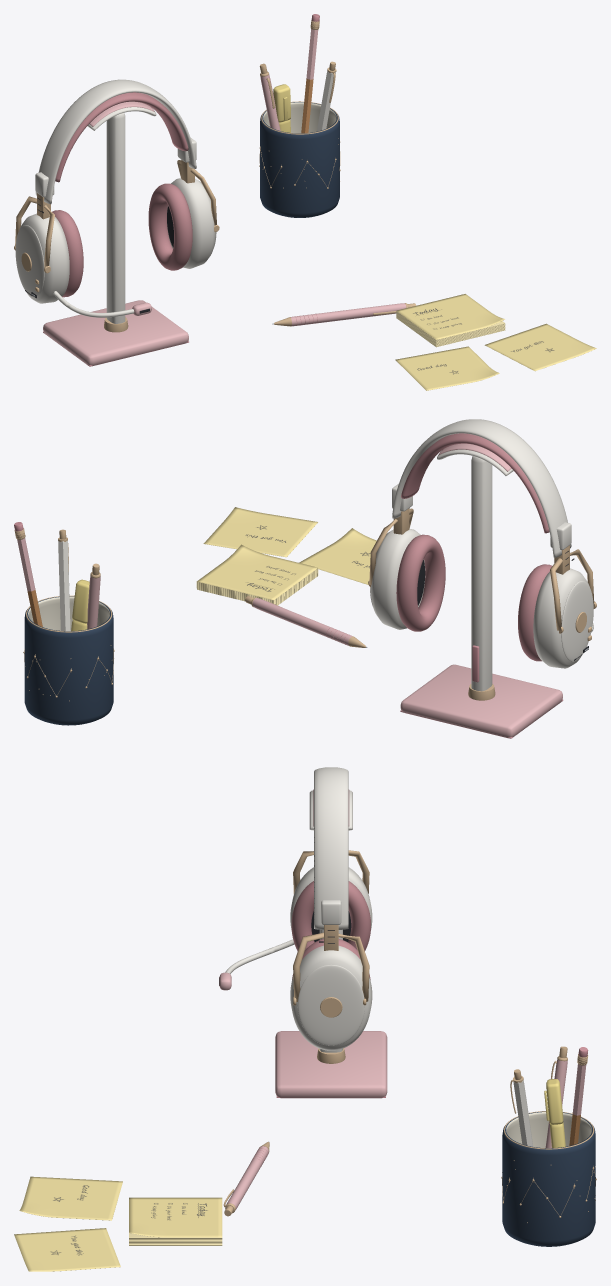
The picture shows the model from 3 angles, top to bottom: view 1: azimuth 30°, elevation 25°; view 2: azimuth 150°, elevation 25°; view 3: azimuth 270°, elevation 25°; orthographic projection. The views are drawn at different scales.
Parts seen in each view (by area): view 1: D03_Display__D03_Hollow_Ceramic_Vessel, D02_Display__D02_Weighted_Base, D02_Display__D02_Flattened_Upright, D01_Display__D01_Headband_Shell, D01_Display__D01_R_Cushion, D08_Display__D08_Loose_You_Got_This, D08_Display__D08_Top_Curled_Sheet, D08_Display__D08_Loose_Good_Day, D01_Display__D01_L_Acoustic_Housing, D01_Display__D01_R_Acoustic_Housing, D01_Display__D01_Headband_Padded_Underside, D01_Display__D01_L_Inset_Outer_Panel (+6 smaller); view 2: D03_Display__D03_Hollow_Ceramic_Vessel, D02_Display__D02_Weighted_Base, D02_Display__D02_Flattened_Upright, D01_Display__D01_Headband_Shell, D01_Display__D01_R_Cushion, D08_Display__D08_Top_Curled_Sheet, D08_Display__D08_Loose_You_Got_This, D01_Display__D01_L_Acoustic_Housing, D01_Display__D01_R_Acoustic_Housing, D08_Display__D08_Loose_Good_Day, D01_Display__D01_Headband_Padded_Underside, D01_Display__D01_L_Inset_Outer_Panel (+10 smaller); view 3: D03_Display__D03_Hollow_Ceramic_Vessel, D02_Display__D02_Weighted_Base, D01_Display__D01_Headband_Shell, D01_Display__D01_R_Inset_Outer_Panel, D08_Display__D08_Top_Curled_Sheet, D08_Display__D08_Loose_You_Got_This, D08_Display__D08_Loose_Good_Day, D01_Display__D01_R_Acoustic_Housing, D01_Display__D01_L_Cushion, D01_Display__D01_R_Swivel_Yoke, D04_Loose_Pen_Instance__D04_Barrel, D01_Display__D01_L_Acoustic_Housing (+2 smaller).
Part boxes in pixels (x1,y1,x2,y2): D03_Display__D03_Hollow_Ceramic_Vessel: (260,102,339,217); D02_Display__D02_Weighted_Base: (43,300,188,366); D02_Display__D02_Flattened_Upright: (106,113,125,323); D01_Display__D01_Headband_Shell: (35,79,196,204); D01_Display__D01_R_Cushion: (148,183,192,270); D08_Display__D08_Loose_You_Got_This: (484,323,596,371); D08_Display__D08_Top_Curled_Sheet: (396,294,504,339); D08_Display__D08_Loose_Good_Day: (395,346,499,390); D01_Display__D01_L_Acoustic_Housing: (19,213,69,303); D01_Display__D01_R_Acoustic_Housing: (167,178,215,268); D01_Display__D01_Headband_Padded_Underside: (55,92,188,182); D01_Display__D01_L_Inset_Outer_Panel: (15,225,44,297); D03_Display__D03_Hollow_Ceramic_Vessel: (24,596,113,725); D02_Display__D02_Weighted_Base: (400,664,562,738); D02_Display__D02_Flattened_Upright: (471,456,492,691); D01_Display__D01_Headband_Shell: (392,419,571,557); D01_Display__D01_R_Cushion: (396,534,445,631); D08_Display__D08_Top_Curled_Sheet: (197,544,317,600); D08_Display__D08_Loose_You_Got_This: (203,507,317,557); D01_Display__D01_L_Acoustic_Housing: (533,568,589,668); D01_Display__D01_R_Acoustic_Housing: (371,529,425,629); D08_Display__D08_Loose_Good_Day: (299,528,376,584); D01_Display__D01_Headband_Padded_Underside: (401,433,549,533); D01_Display__D01_L_Inset_Outer_Panel: (561,581,593,661); D03_Display__D03_Hollow_Ceramic_Vessel: (502,1111,595,1246); D02_Display__D02_Weighted_Base: (275,1031,387,1098); D01_Display__D01_Headband_Shell: (314,767,348,929); D01_Display__D01_R_Inset_Outer_Panel: (297,964,364,1045); D08_Display__D08_Top_Curled_Sheet: (129,1197,222,1237); D08_Display__D08_Loose_You_Got_This: (14,1228,120,1271); D08_Display__D08_Loose_Good_Day: (19,1176,122,1220); D01_Display__D01_R_Acoustic_Housing: (290,945,372,1050); D01_Display__D01_L_Cushion: (291,881,370,951); D01_Display__D01_R_Swivel_Yoke: (293,932,369,1001); D04_Loose_Pen_Instance__D04_Barrel: (226,1146,268,1209); D01_Display__D01_L_Acoustic_Housing: (290,867,372,929).
Size of the model in its own units: 0.4774 by 0.2655 by 0.4685.
Materials: 18 (5 with a texture image).
